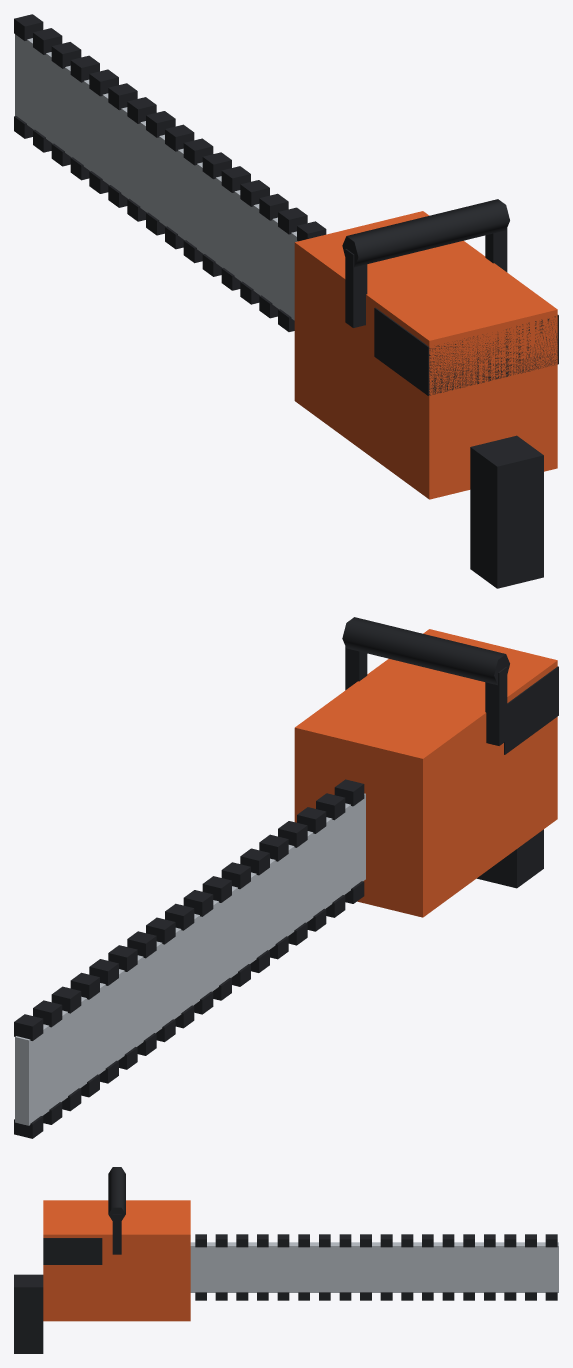
The model's file is tool_chainsaw.glb.
The picture shows the model from 3 angles, top to bottom: view 1: azimuth 30°, elevation 25°; view 2: azimuth 150°, elevation 25°; view 3: azimuth 270°, elevation 25°; orthographic projection. The views are drawn at different scales.
Visible parts, largest first — view 1: _MeshInstance3D_1000, _MeshInstance3D_1005, _MeshInstance3D_999, _MeshInstance3D_1001, _MeshInstance3D_1002, _MeshInstance3D_1003, _MeshInstance3D_1004; view 2: _MeshInstance3D_1000, _MeshInstance3D_1005, _MeshInstance3D_1002, _MeshInstance3D_1001, _MeshInstance3D_999, _MeshInstance3D_1003, _MeshInstance3D_1004, _MeshInstance3D_1006; view 3: _MeshInstance3D_1005, _MeshInstance3D_1000, _MeshInstance3D_999, _MeshInstance3D_1001, _MeshInstance3D_1002, _MeshInstance3D_1004.
Part boxes in pixels (left/top/right/bottom): _MeshInstance3D_1000: left=294, top=211, right=557, bottom=499; _MeshInstance3D_1005: left=15, top=34, right=297, bottom=320; _MeshInstance3D_999: left=470, top=435, right=543, bottom=588; _MeshInstance3D_1001: left=374, top=307, right=558, bottom=395; _MeshInstance3D_1002: left=342, top=199, right=509, bottom=267; _MeshInstance3D_1003: left=345, top=249, right=367, bottom=327; _MeshInstance3D_1004: left=485, top=228, right=507, bottom=272; _MeshInstance3D_1000: left=294, top=629, right=557, bottom=917; _MeshInstance3D_1005: left=15, top=793, right=365, bottom=1125; _MeshInstance3D_1002: left=342, top=617, right=509, bottom=685; _MeshInstance3D_1001: left=504, top=666, right=558, bottom=754; _MeshInstance3D_999: left=477, top=829, right=543, bottom=888; _MeshInstance3D_1003: left=485, top=667, right=507, bottom=745; _MeshInstance3D_1004: left=345, top=646, right=367, bottom=690; _MeshInstance3D_1006: left=14, top=1014, right=43, bottom=1040; _MeshInstance3D_1005: left=190, top=1242, right=558, bottom=1292; _MeshInstance3D_1000: left=43, top=1200, right=190, bottom=1321; _MeshInstance3D_999: left=14, top=1274, right=43, bottom=1353; _MeshInstance3D_1001: left=43, top=1238, right=102, bottom=1264; _MeshInstance3D_1002: left=108, top=1167, right=125, bottom=1220; _MeshInstance3D_1004: left=112, top=1214, right=121, bottom=1254.
Bounding box in the file's own units: 0.132 × 0.2404 × 0.74.
